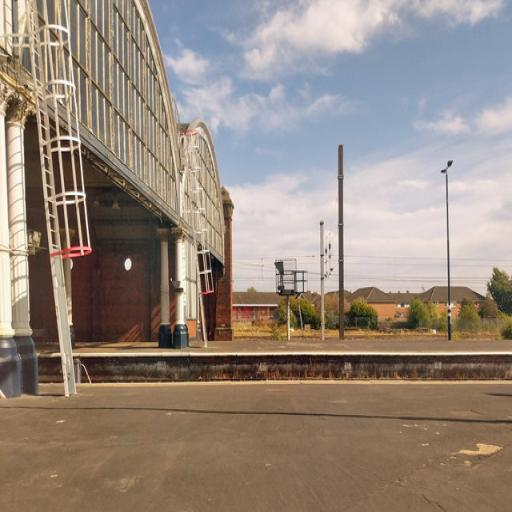platform_edge: (99, 344, 512, 394)
